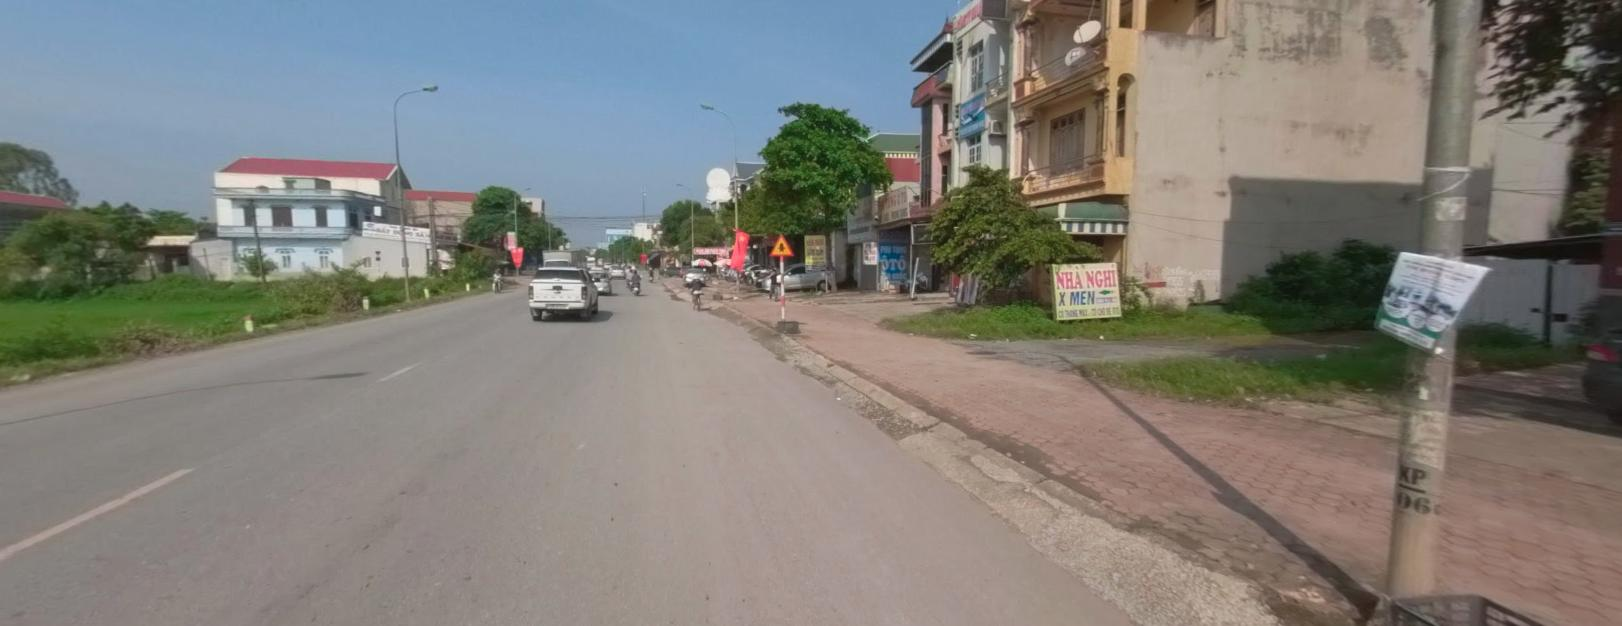Nguy hiem: (770, 232, 794, 255), (768, 233, 794, 254)
